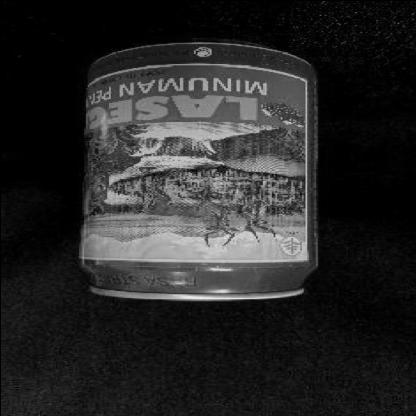alumunium_can: (76, 38, 318, 300)
